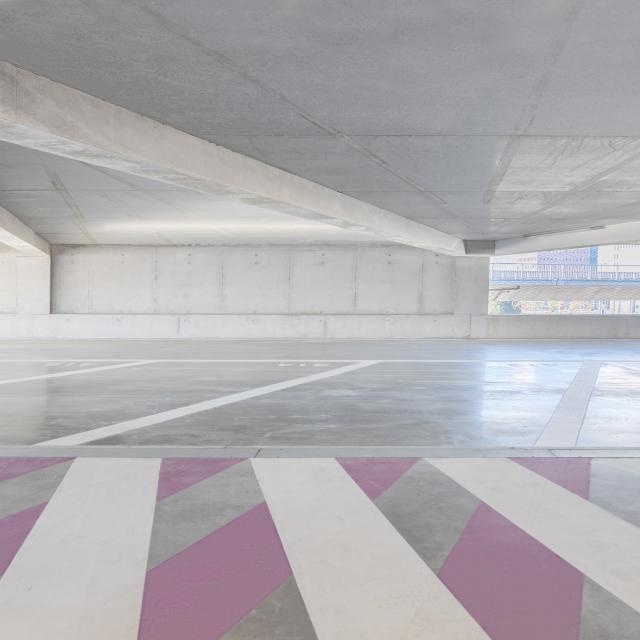Concrete: (0, 312, 640, 640)
